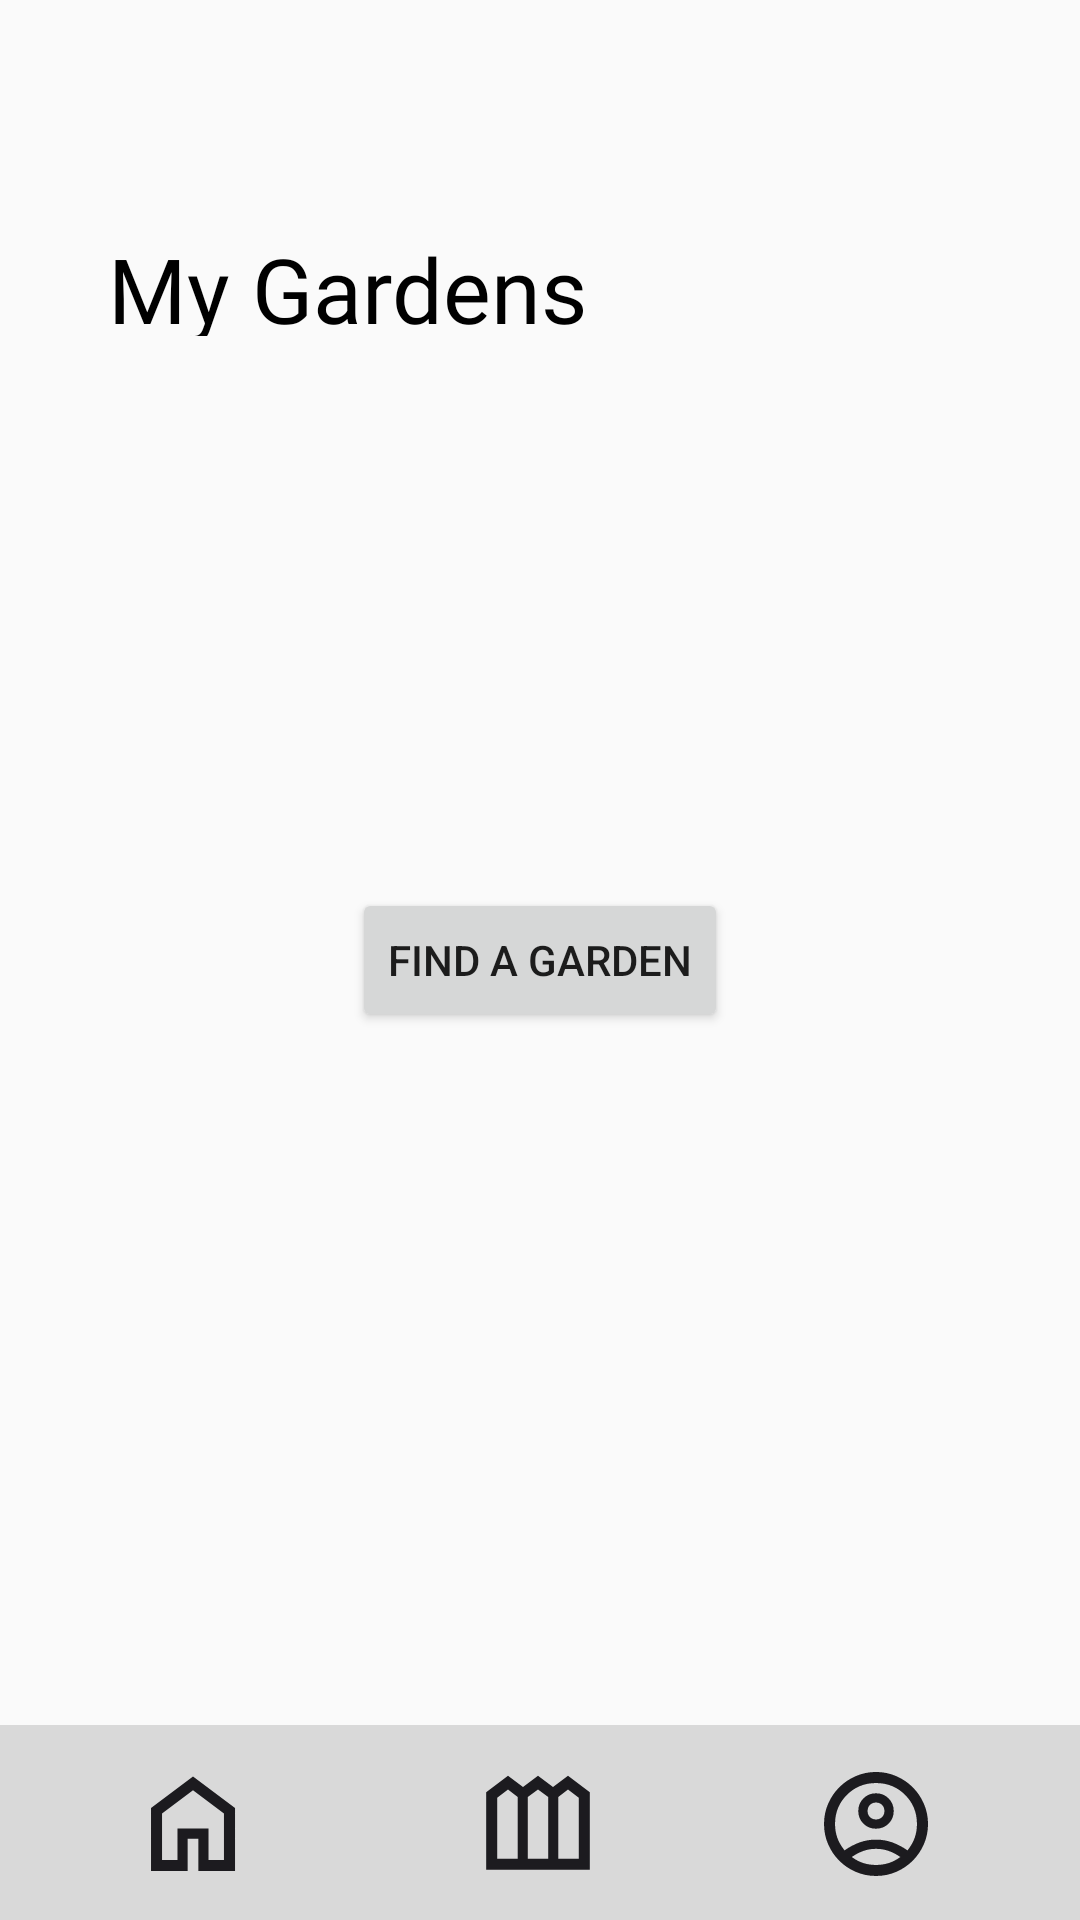

Icon click points for this 1080px x 1920px phone screenshot, format (x,y):
home: (193,1823)
outdoor garden: (538,1823)
